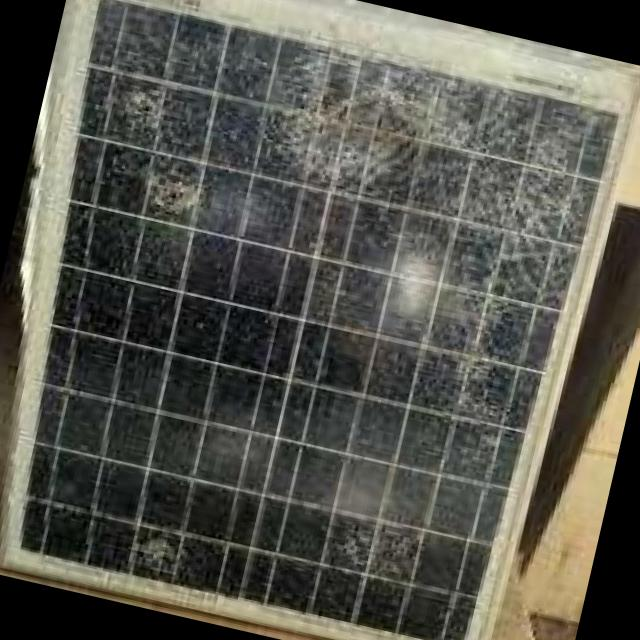faulty: (18, 0, 617, 640)
